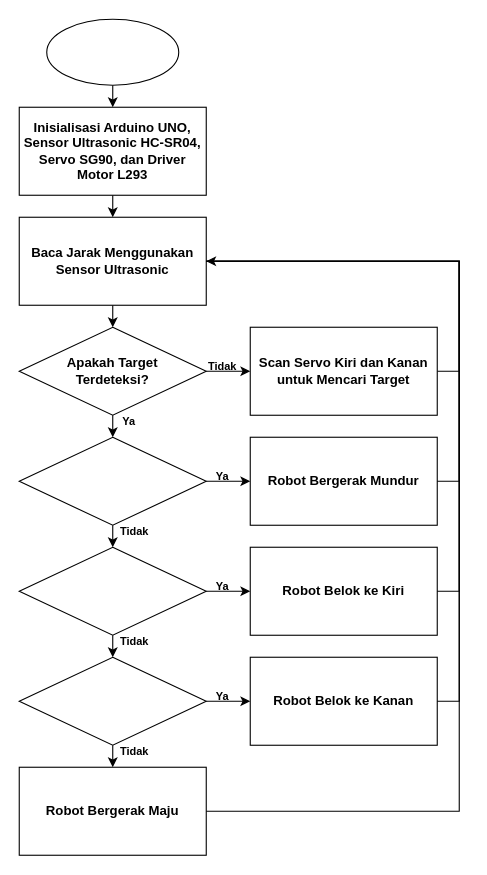
Some shapes in this 487 by 875 pixel diagram are drawn without their labels. Here are the shapes that lost their labels. From the top down, the box of each, then its label:
(46, 18, 179, 85): Start
(18, 436, 206, 525): Apakah Jarak Target ≤ 5 cm?
(18, 546, 206, 635): Apakah Posisi Target Berada di Sebelah Kiri?
(18, 656, 206, 745): Apakah Posisi Target Berada di Sebelah Kanan?
